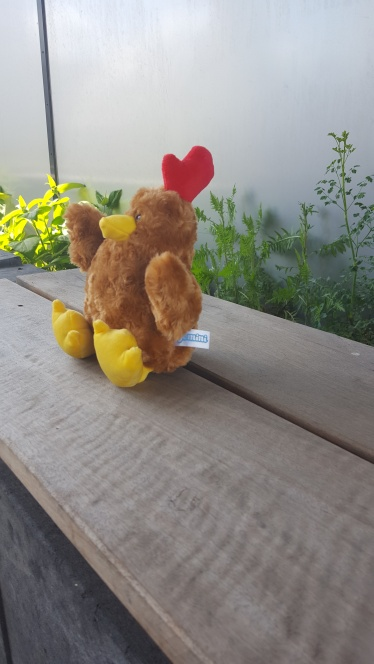chicken_right: (50, 145, 216, 390)
